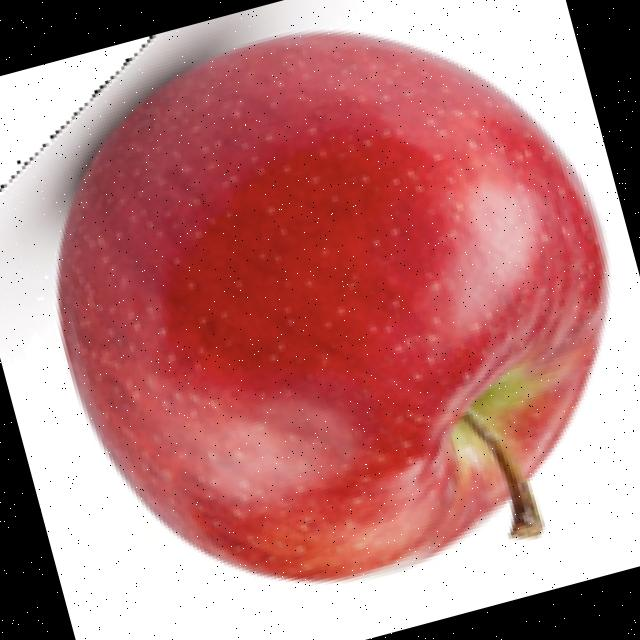apple: (0, 2, 615, 587)
